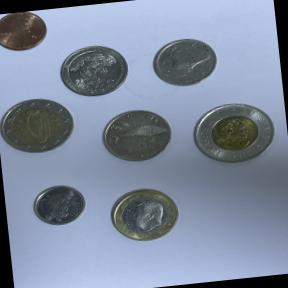1 Euro-B: (102, 178, 189, 249)
2 Euro-B: (0, 92, 79, 159)
Canada-10cent-B: (26, 178, 92, 232)
Canada-2Dollar-B: (186, 95, 282, 172)
Croatia-2Kune-B: (96, 104, 178, 170)
US-1cent-B: (0, 9, 51, 57)
US-25cent-B: (54, 40, 135, 103)
